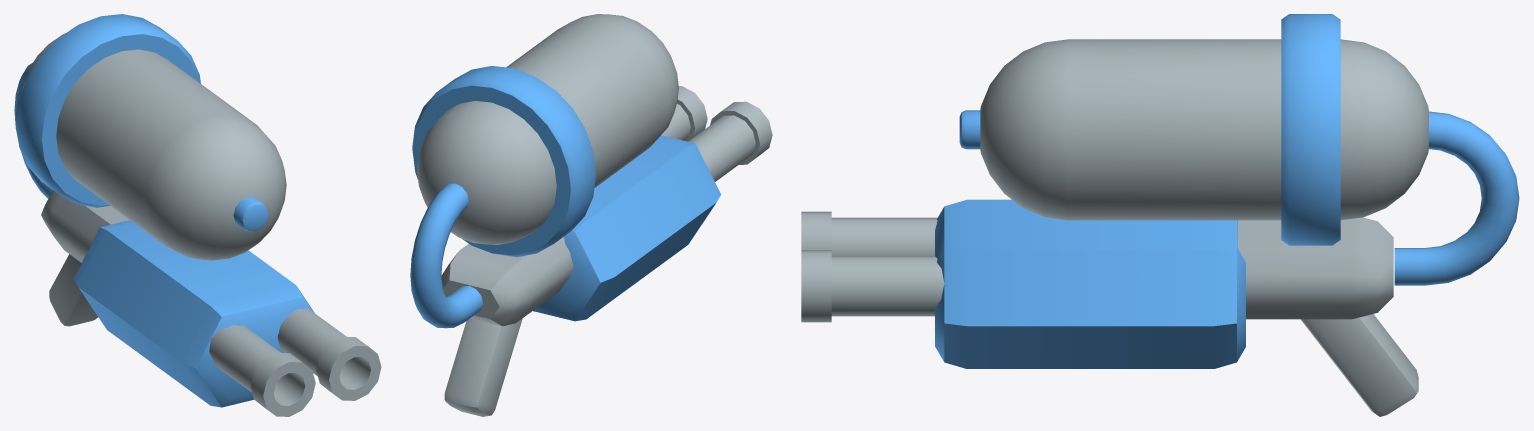
File: blaster_teamBlue.glb
3 views of the same model, side by side, from view 1: azimuth 30°, elevation 25°; view 2: azimuth 150°, elevation 25°; view 3: azimuth 270°, elevation 25° (orthographic). The views are drawn at different scales.
Visible parts, largest first — view 1: blaster_teamBlue; view 2: blaster_teamBlue; view 3: blaster_teamBlue.
Part boxes in pixels (<box>): blaster_teamBlue: <box>14,14,381,416</box>; blaster_teamBlue: <box>410,14,772,416</box>; blaster_teamBlue: <box>801,14,1519,416</box>.
Bounding box in the file's own units: 0.1508 × 0.2756 × 0.4657.
